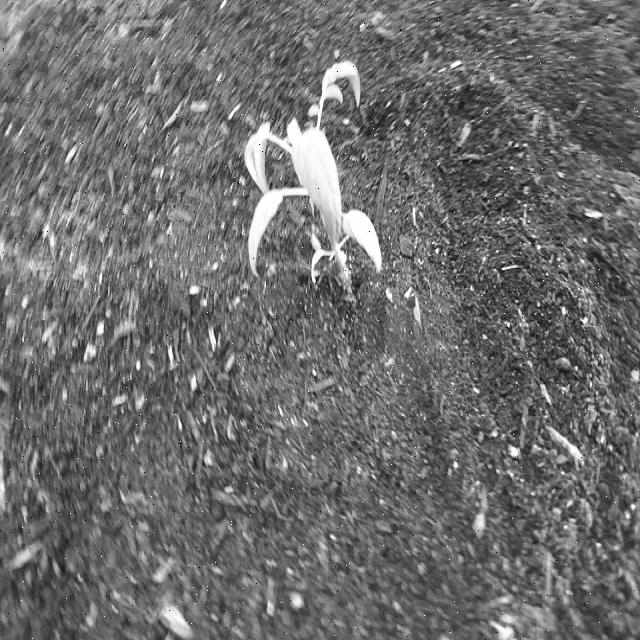Healthy: (234, 52, 388, 310)
